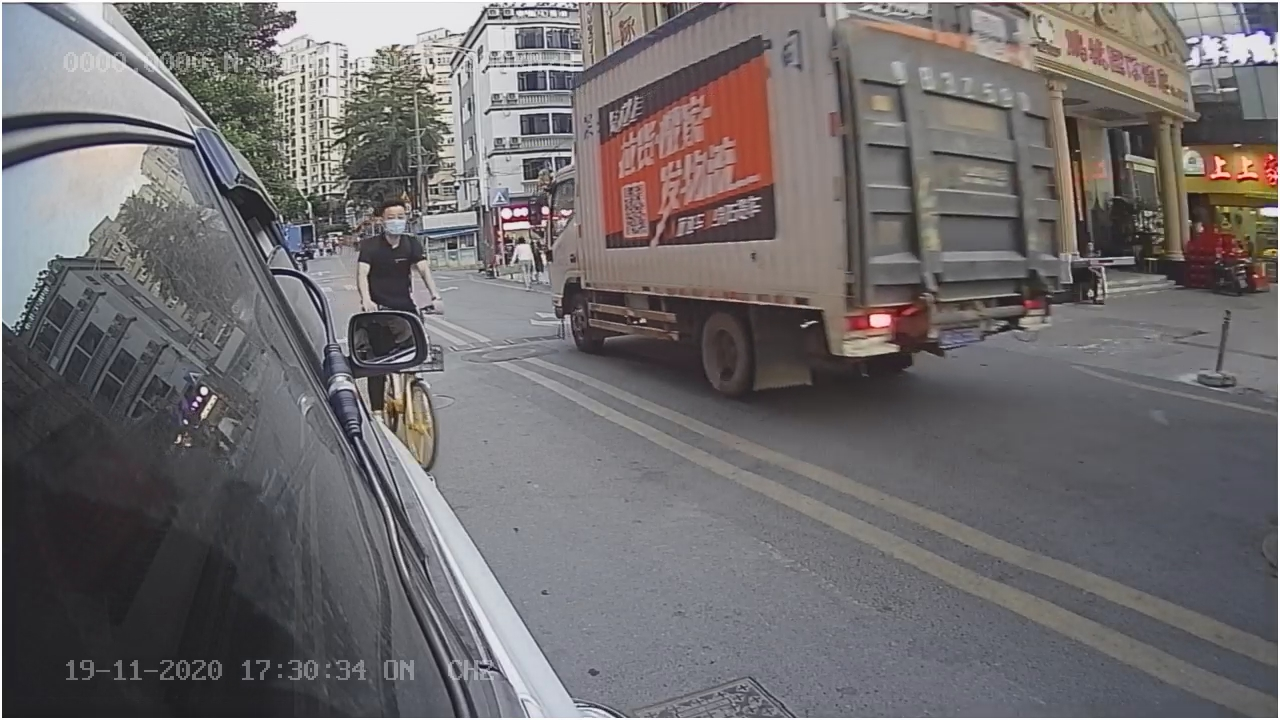person: (349, 196, 444, 304)
